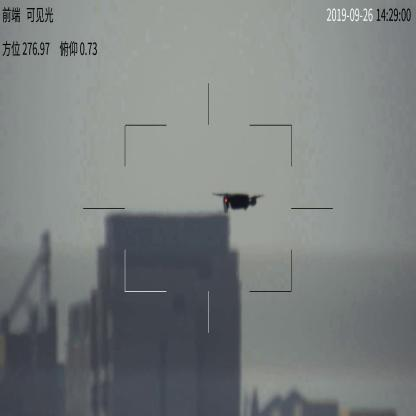uav: (211, 190, 266, 211)
